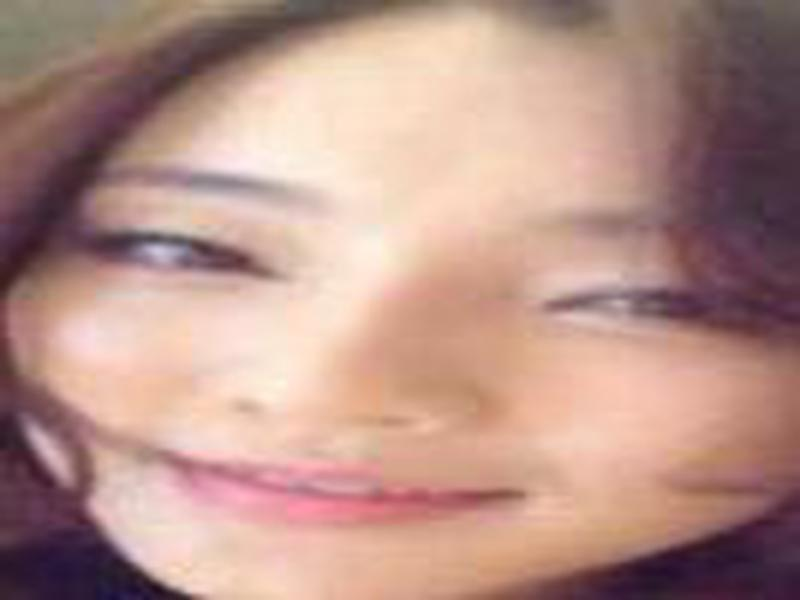without_mask: (16, 84, 791, 593)
